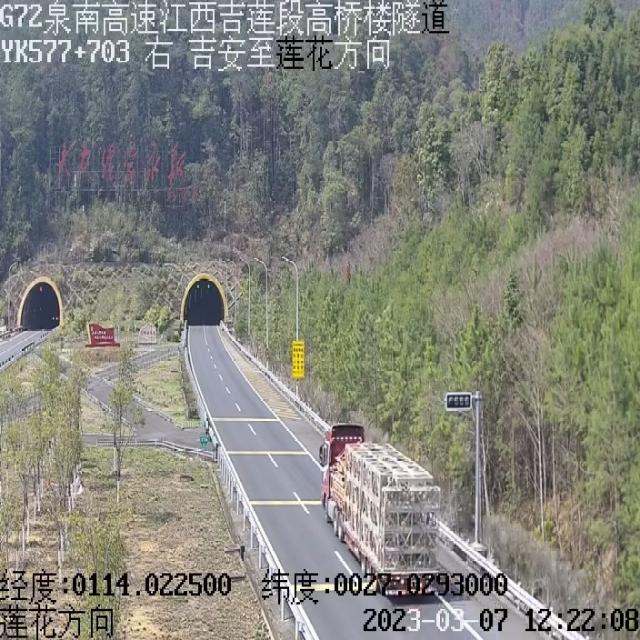point: (172, 267, 238, 344), (9, 276, 69, 340)
